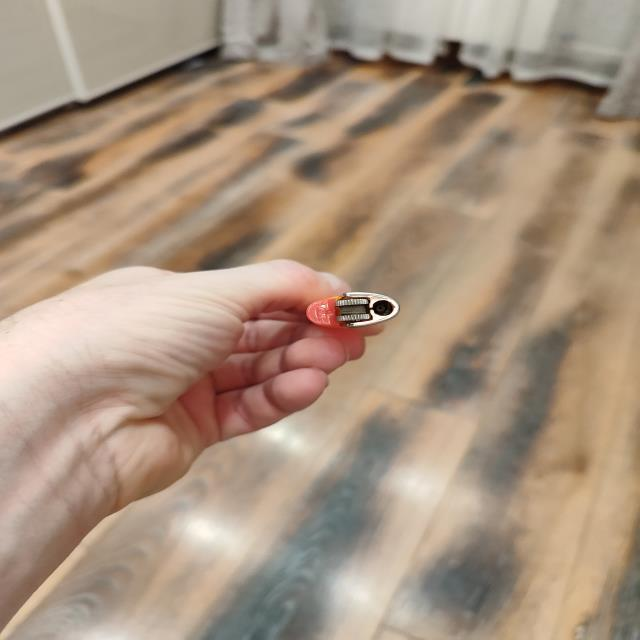lighter: (306, 292, 399, 328)
